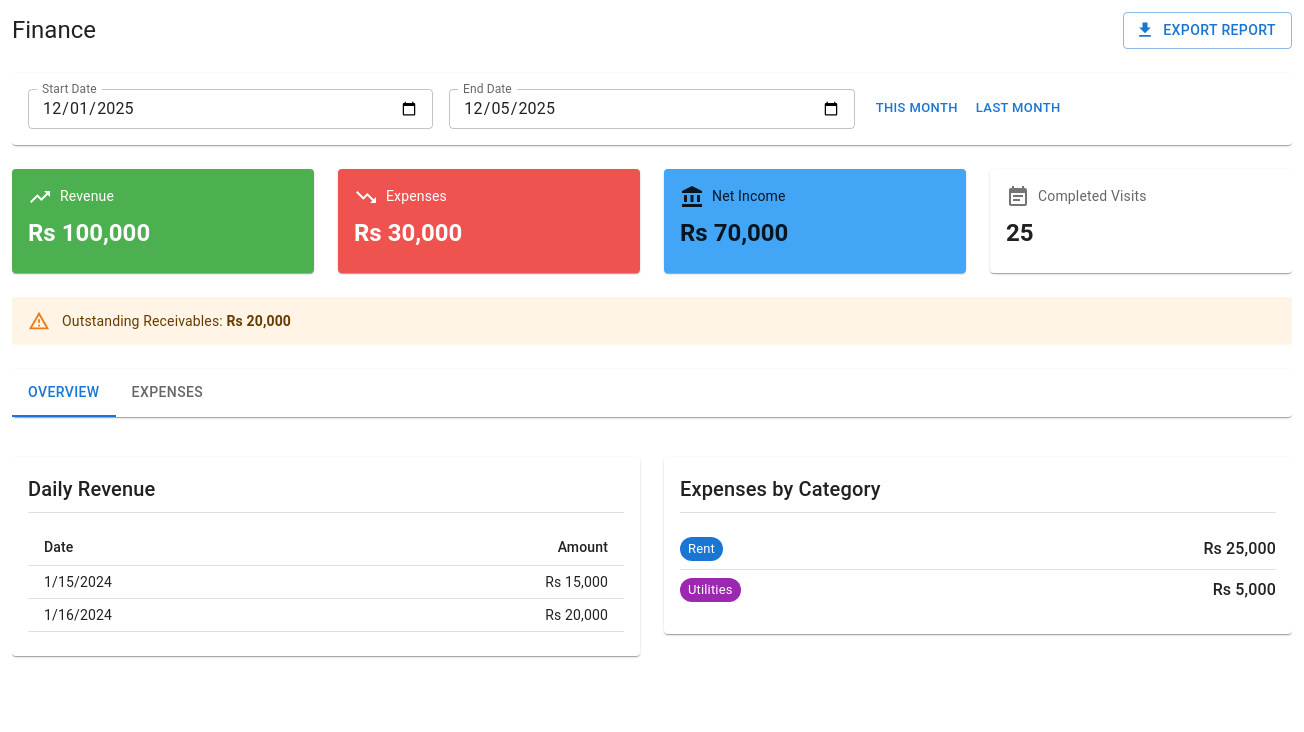
it: Expense Workflow Integration Tests › Tab Navigation › should switch to Expenses tab when clicked
Click the tab "Expenses".
click(167, 392)  # box [116,368,219,416]
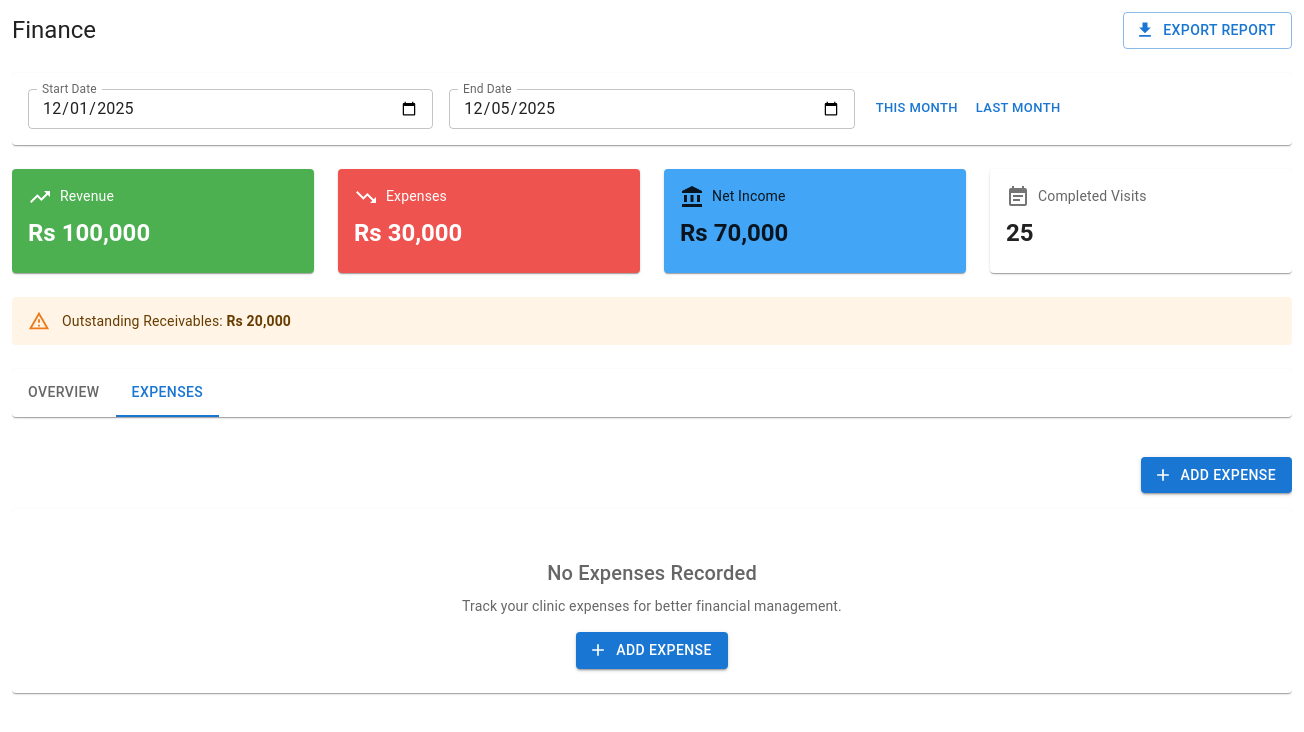
Check: the heading "No Expenses Recorded" is shown, box [547,561,757,585]
